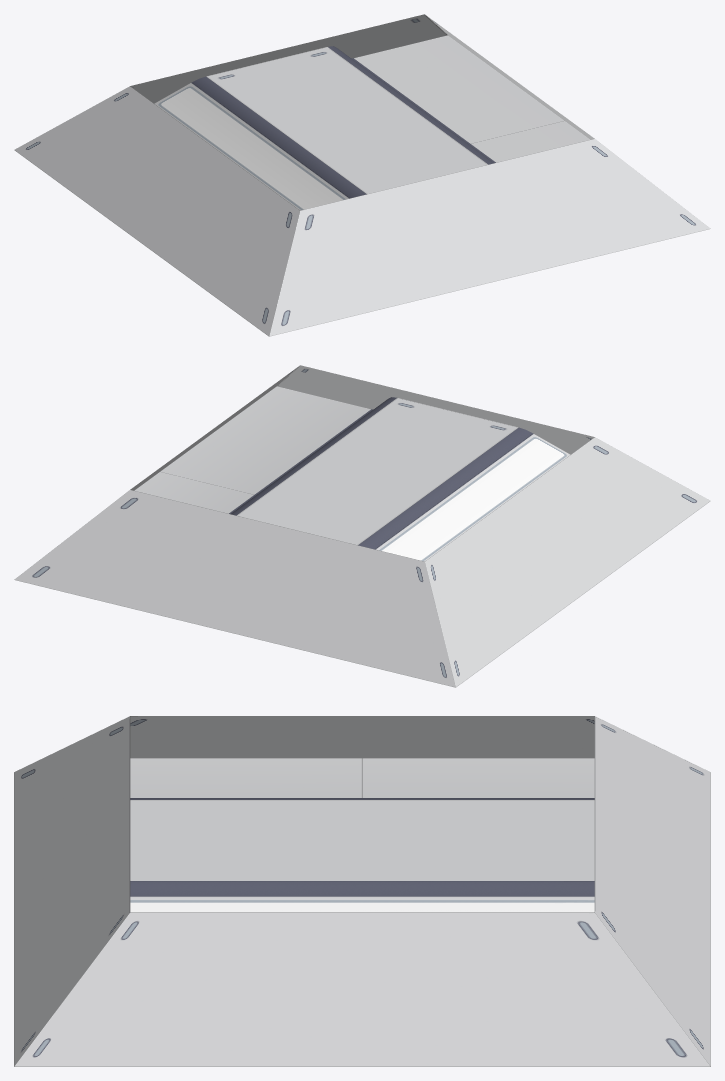
File: Interior_Roof_02.FBX
The picture shows the model from 3 angles, top to bottom: view 1: azimuth 30°, elevation 25°; view 2: azimuth 150°, elevation 25°; view 3: azimuth 270°, elevation 25°; orthographic projection. The views are drawn at different scales.
Parts seen in each view (by area): view 1: Interior_Roof_02; view 2: Interior_Roof_02; view 3: Interior_Roof_02.
Part boxes in pixels (left/top/right/bottom): Interior_Roof_02: left=14, top=14, right=710, bottom=336; Interior_Roof_02: left=14, top=365, right=710, bottom=687; Interior_Roof_02: left=14, top=716, right=710, bottom=1066.
Bounding box in the file's own units: 6 × 1 × 6.
Materials: 2 (2 with a texture image).
